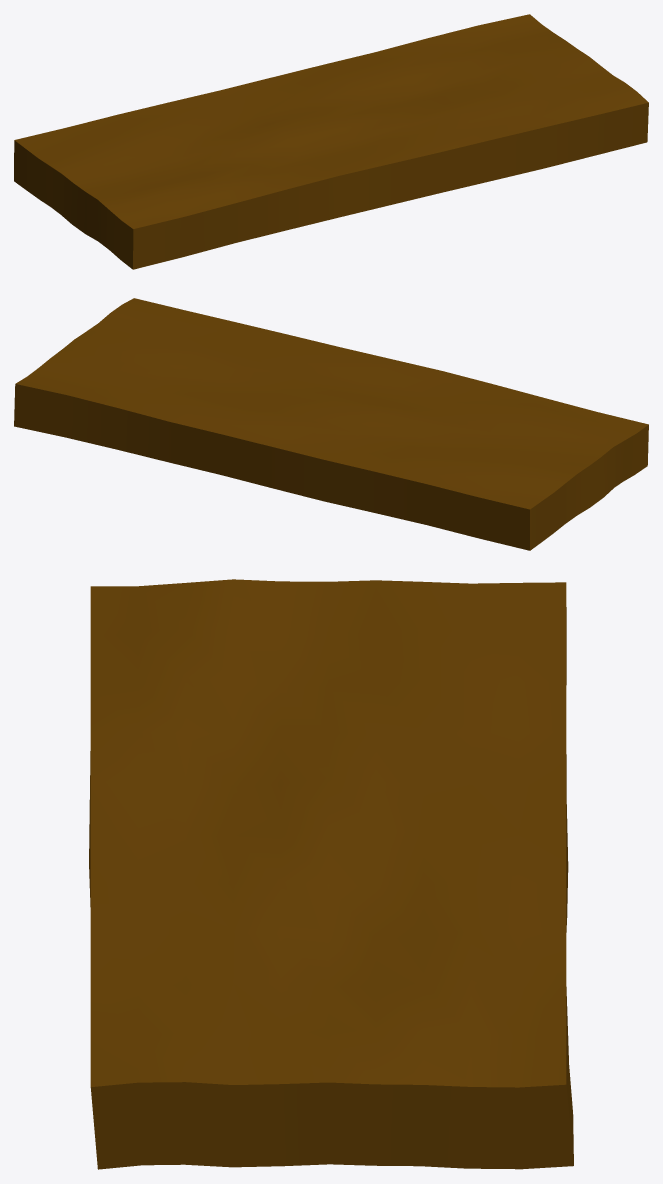
File: tile terreno.fbx
The picture shows the model from 3 angles, top to bottom: view 1: azimuth 30°, elevation 25°; view 2: azimuth 150°, elevation 25°; view 3: azimuth 270°, elevation 25°; orthographic projection. The views are drawn at different scales.
Parts seen in each view (by area): view 1: pPlane1; view 2: pPlane1; view 3: pPlane1.
Part boxes in pixels (x1,y1,x2,y2): pPlane1: [14, 14, 648, 269]; pPlane1: [14, 298, 648, 550]; pPlane1: [89, 579, 573, 1169].
Bounding box in the file's own units: 5017 × 436 × 2040.
